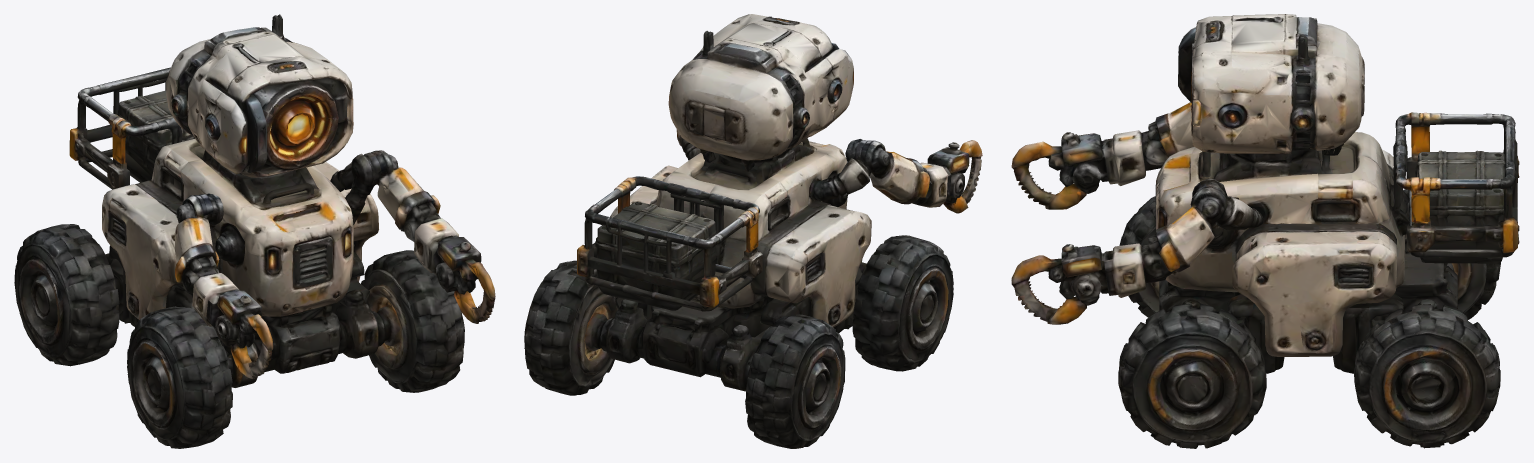
File: salvage-drone.glb
The picture shows the model from 3 angles, left to right: view 1: azimuth 30°, elevation 25°; view 2: azimuth 150°, elevation 25°; view 3: azimuth 270°, elevation 25°; orthographic projection. The views are drawn at different scales.
Visible parts, largest first — view 1: tripo_node_65084c78-0662-47b5-9bcb-1632b38076ba; view 2: tripo_node_65084c78-0662-47b5-9bcb-1632b38076ba; view 3: tripo_node_65084c78-0662-47b5-9bcb-1632b38076ba.
Part boxes in pixels (box(x1,y1,x2,y2)): tripo_node_65084c78-0662-47b5-9bcb-1632b38076ba: box(14, 14, 495, 448); tripo_node_65084c78-0662-47b5-9bcb-1632b38076ba: box(524, 14, 982, 448); tripo_node_65084c78-0662-47b5-9bcb-1632b38076ba: box(1011, 14, 1519, 448).
Bounding box in the file's own units: 0.6683 × 0.7816 × 0.9827.
1 material, 1 textured.
